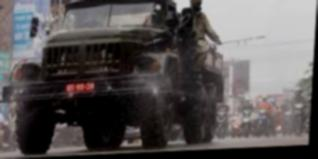License_Plate: (63, 83, 93, 94)
